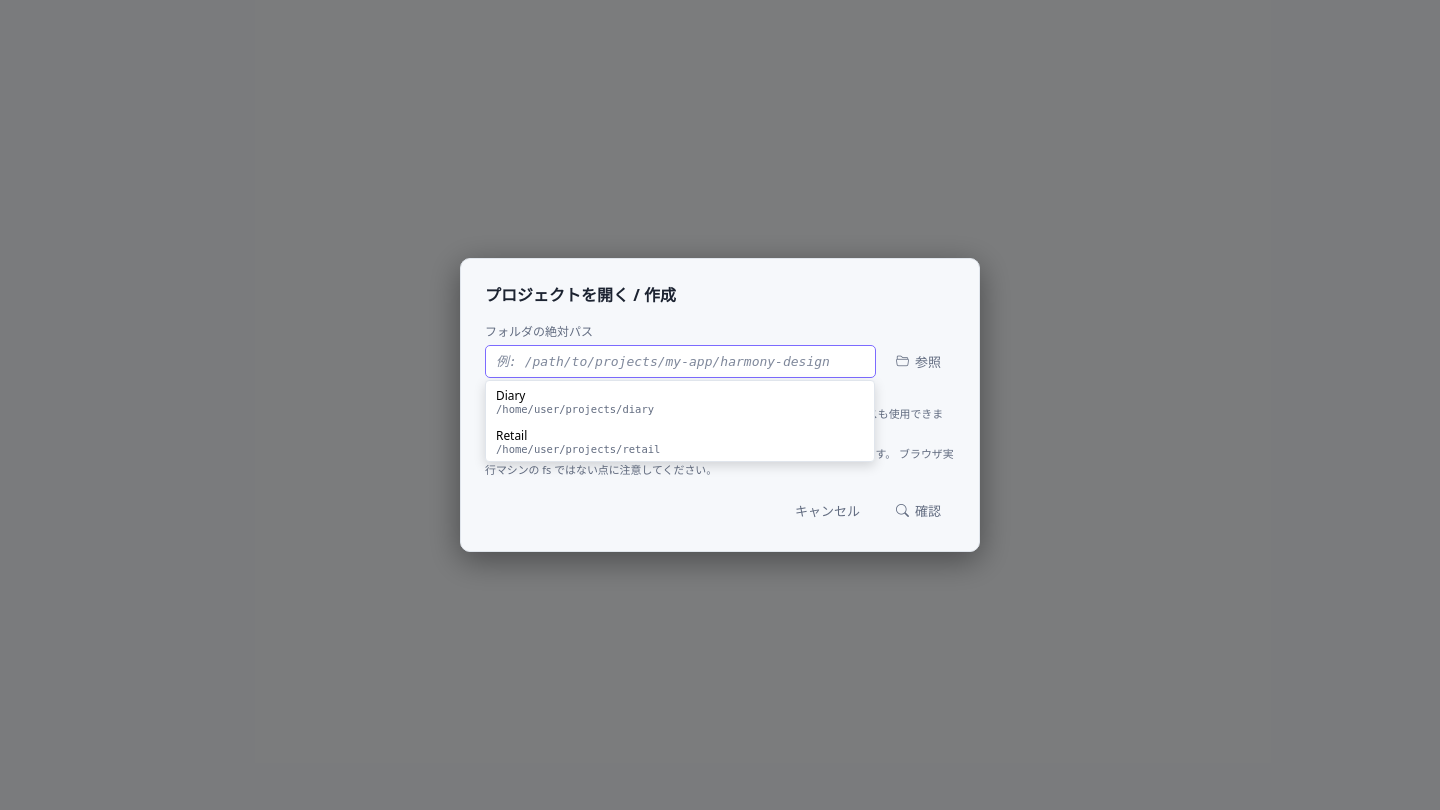
Scenario: AddWorkspaceDialog (#858) › Escape キーで recent dropdown が閉じる (input focus は維持) (SF-3)
Focus the field with test id "workspace-path-input" at [680, 361], box left=485, top=345, right=876, bottom=378
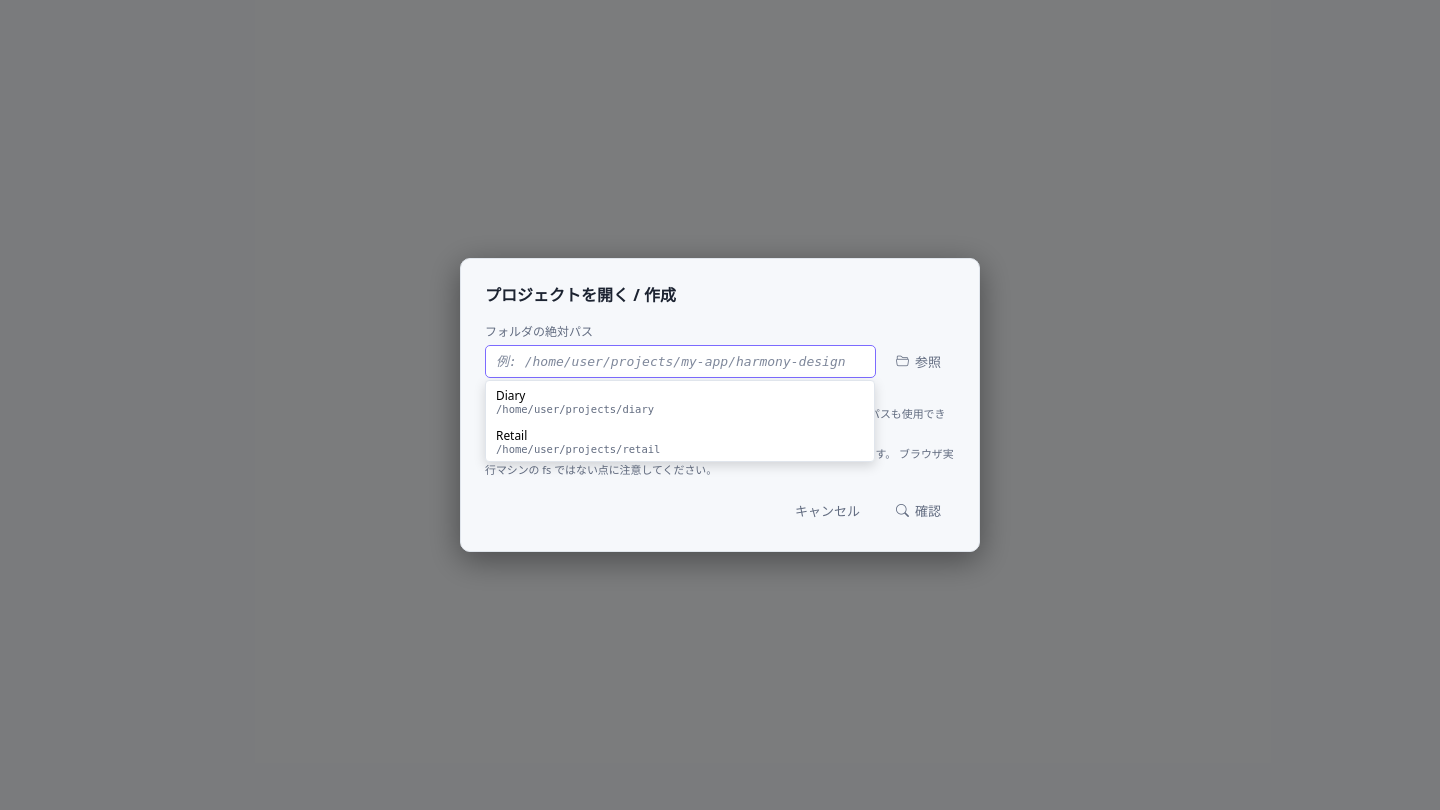
Expected: the list named "最近使ったワークスペース" is shown, left=485, top=380, right=875, bottom=462
Press Escape in the field with test id "workspace-path-input", box left=485, top=345, right=876, bottom=378
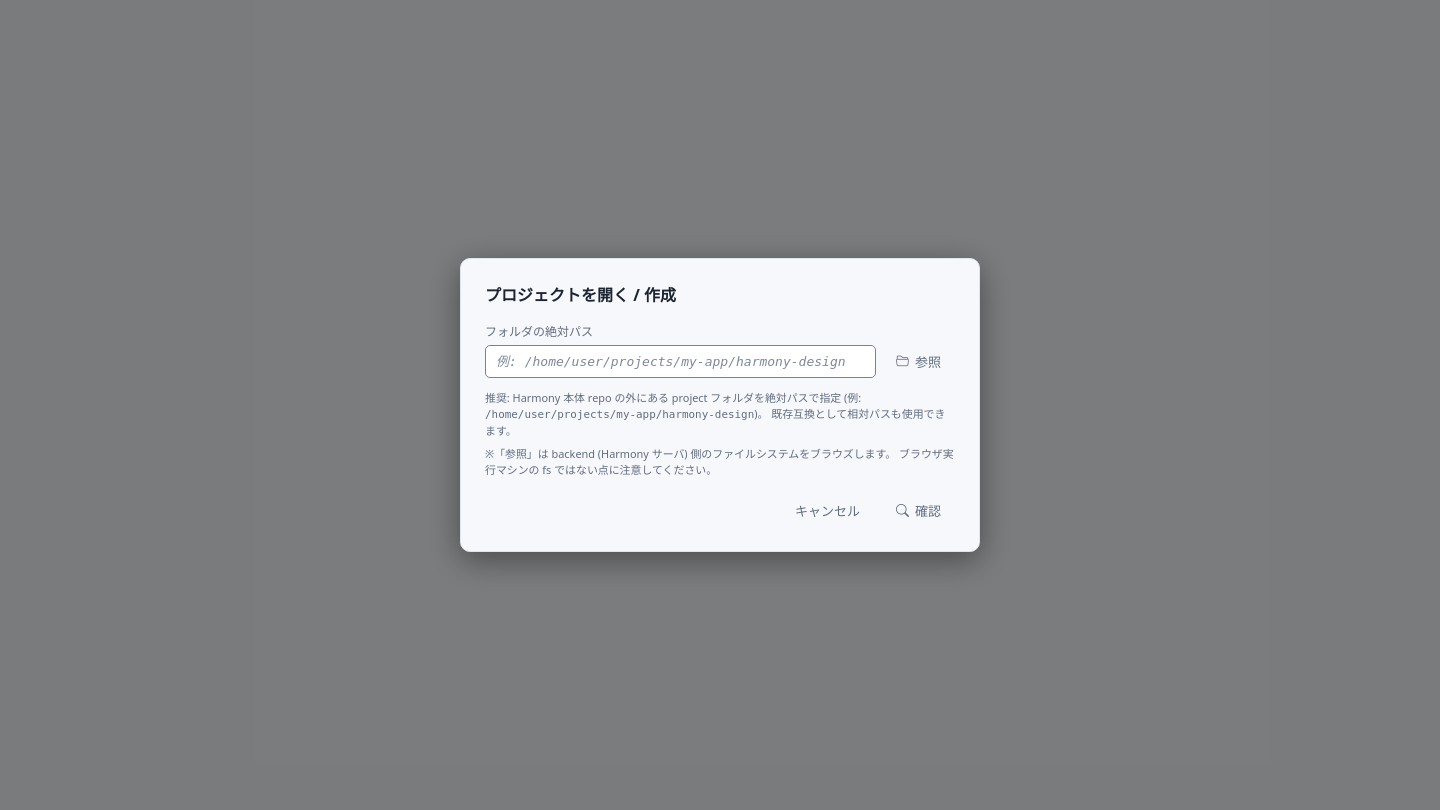
Now the list "最近使ったワークスペース" is gone
